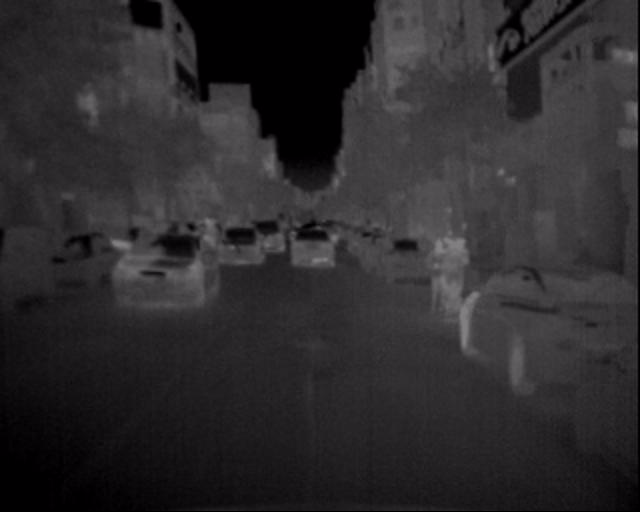person: (437, 223, 474, 326), (422, 231, 452, 317)
